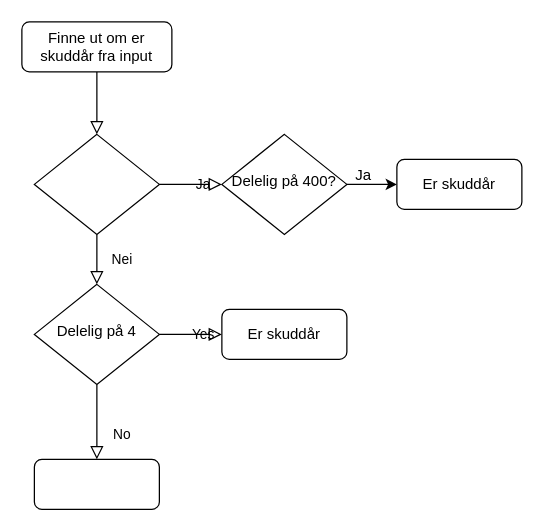
This 544x531 diagram has some shape labels left out. The shapes that lost their labels are listed below. From the top down, each one's centre as x and y in pixels, then its label:
the point at 96,183: Delelig på 100?
the point at 96,483: Er ikke skuddår
